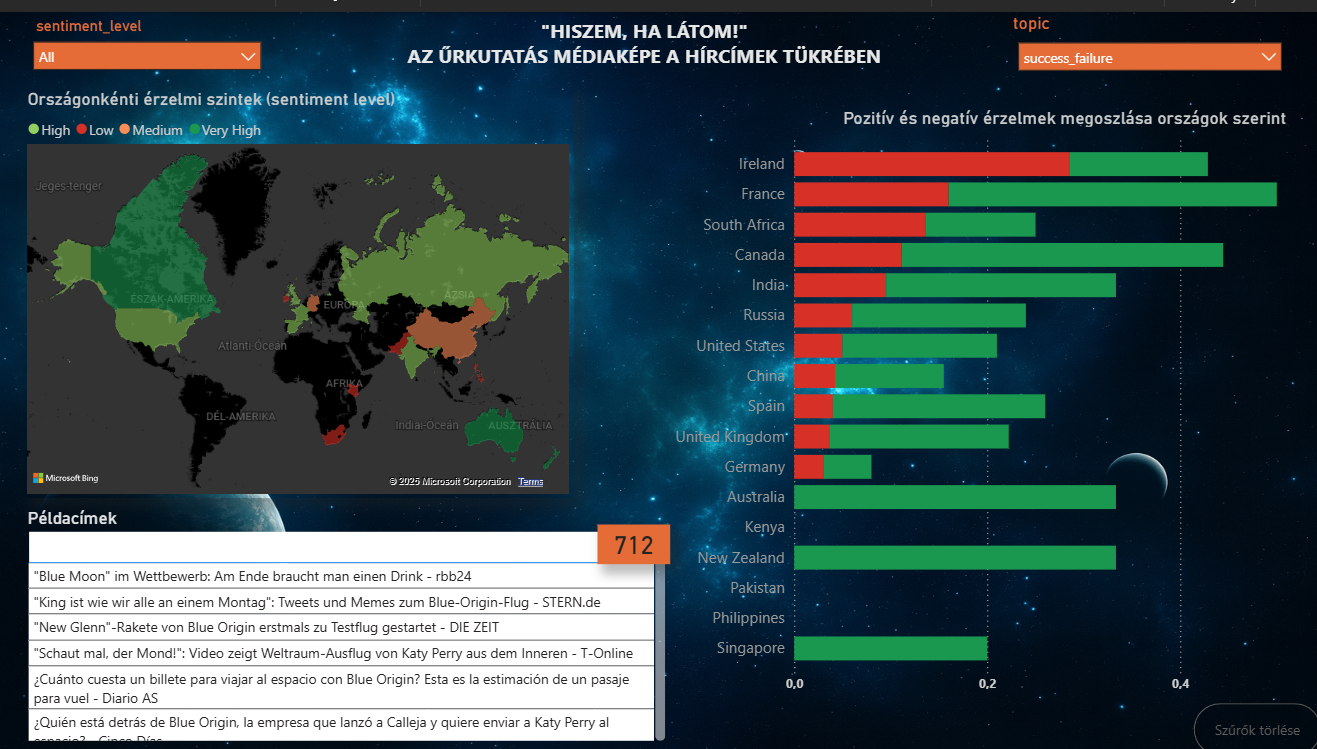

Layout of this report page (visuals, bound fields, positions):
{"tool":"powerbi","page":{"name":"Page 1","canvas":[1280,720],"ordinal":0},"visuals":[{"type":"filledMap","title":"Országonkénti érzelmi szintek (sentiment level)","fields":{"Category":["master_sentiment_by_topic.country"],"Series":["master_sentiment_by_topic.sentiment_level"]},"box":[21.8,73.8,533.8,397],"z":0},{"type":"slicer","title":"topic","fields":{"Values":["master_sentiment_by_topic.topic"]},"box":[975.3,0,275.6,73.6],"z":1000},{"type":"barChart","title":"Pozitív és negatív érzelmek megoszlása országok szerint","fields":{"Category":["master_sentiment_by_topic.country"],"Y":["master_sentiment_by_topic.negative_ratio","master_sentiment_by_topic.positive_ratio"]},"box":[640.4,92,610.1,577.4],"z":2000},{"type":"slicer","fields":{"Values":["master_sentiment_by_topic.sentiment_level"]},"box":[21.6,0,240.9,62],"z":3000},{"type":"tableEx","title":"Példacímek","fields":{"Values":["all_news_combined.sentiment_label","all_news_combined.title"]},"box":[13.3,489,627,231.2],"z":4000},{"type":"textbox","box":[367.9,0,512.2,62],"z":5000},{"type":"actionButton","box":[1156,669.4,123.5,50.8],"z":6000},{"type":"card","fields":{"Values":["master_sentiment_by_topic.n_articles"]},"box":[570.1,479.4,70.2,38.7],"z":7000},{"type":"textbox","box":[13.3,479.4,119.8,35.1],"z":8000}]}

Visuals, with their boxes in screenshot pixels (x1, y1, x2, y2), scaled from the page's 1280x720 canvas onto the 1317x749 screenshot:
"Országonkénti érzelmi szintek (sentiment level)" filledMap: {"left": 22, "top": 77, "right": 572, "bottom": 490}
"topic" slicer: {"left": 1003, "top": 0, "right": 1287, "bottom": 77}
"Pozitív és negatív érzelmek megoszlása országok szerint" barChart: {"left": 659, "top": 96, "right": 1287, "bottom": 696}
slicer - master_sentiment_by_topic.sentiment_level: {"left": 22, "top": 0, "right": 270, "bottom": 64}
"Példacímek" tableEx: {"left": 14, "top": 509, "right": 659, "bottom": 748}
textbox: {"left": 379, "top": 0, "right": 906, "bottom": 64}
actionButton: {"left": 1189, "top": 696, "right": 1316, "bottom": 748}
card - master_sentiment_by_topic.n_articles: {"left": 587, "top": 499, "right": 659, "bottom": 539}
textbox: {"left": 14, "top": 499, "right": 137, "bottom": 535}
